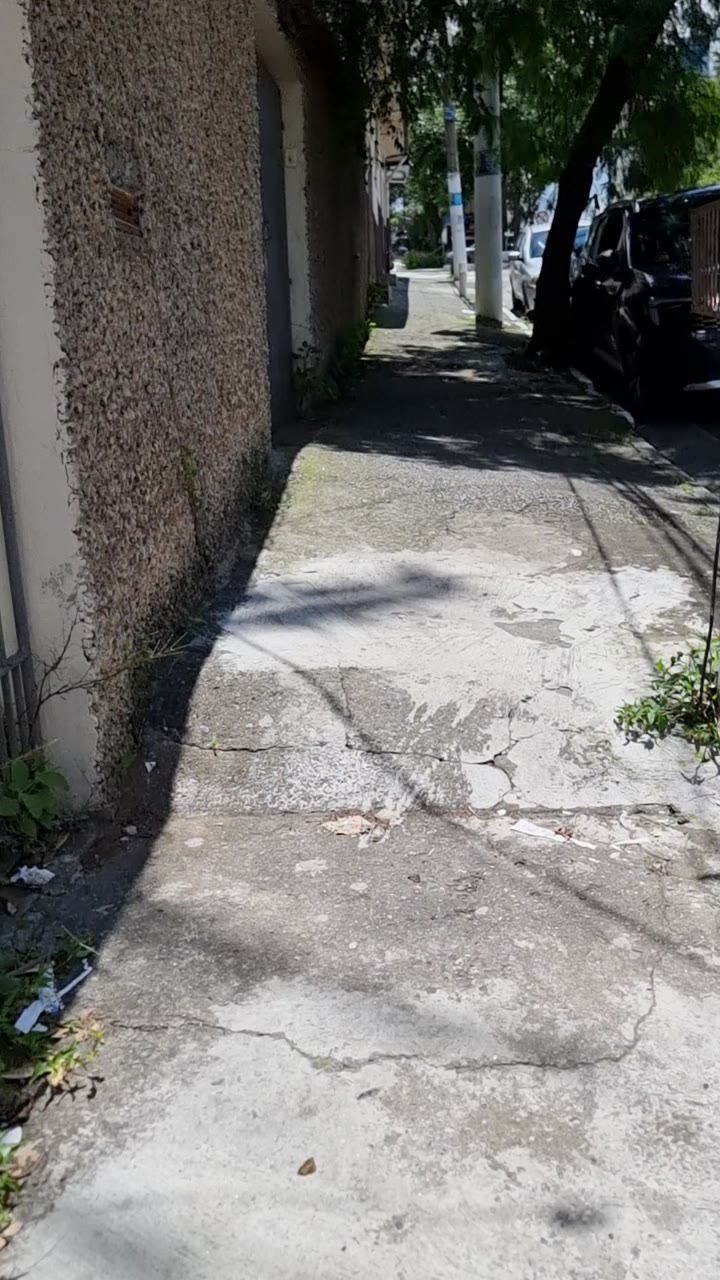desnivel: (144, 717, 720, 819)
